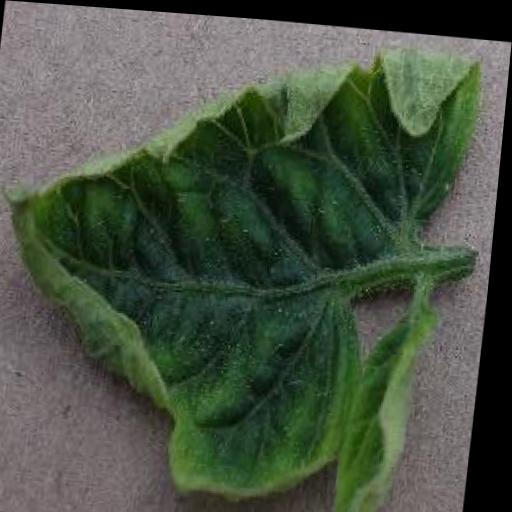Yellow Leaf Curl Virus: (0, 12, 483, 512)
